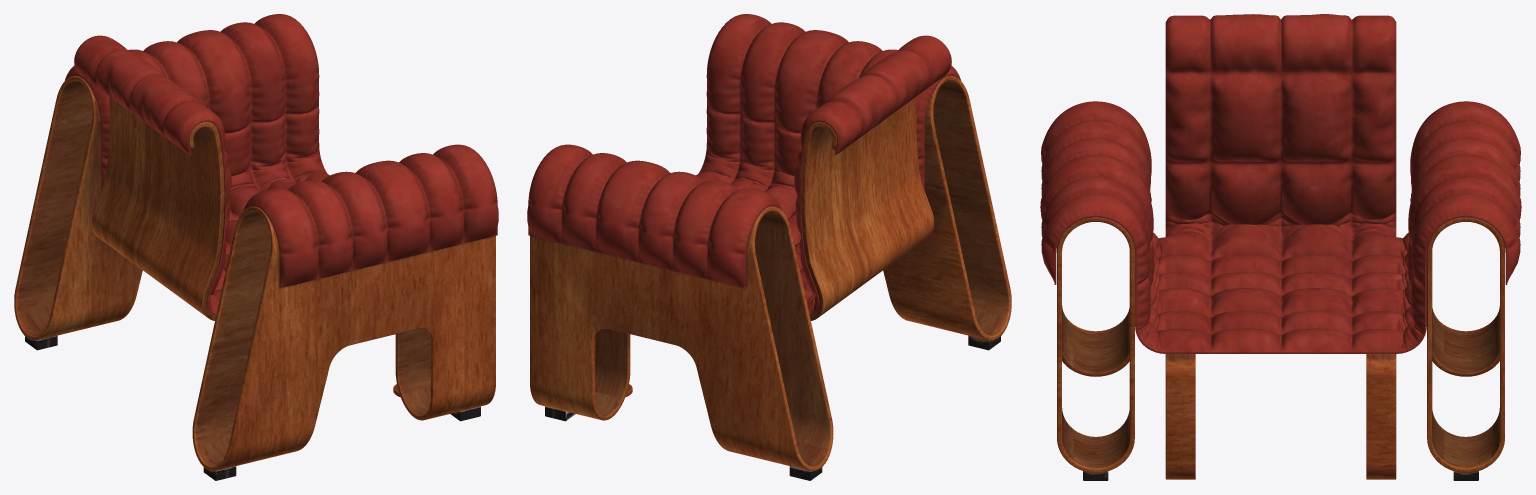
3 renders of one model, left to right at view 1: azimuth 30°, elevation 25°; view 2: azimuth 150°, elevation 25°; view 3: azimuth 270°, elevation 25°, orthographic. The views are drawn at different scales.
Visible parts, largest first — view 1: Cube, Cube.004, Cube.003, Cube.002, Cube.001; view 2: Cube, Cube.004, Cube.003, Cube.002, Cube.001; view 3: Cube.004, Cube, Cube.003, Cube.002.
Boxes of the visible parts, x1,y1,x2,y2 form: Cube: [14, 75, 495, 471]; Cube.004: [64, 14, 498, 314]; Cube.003: [91, 96, 400, 397]; Cube.002: [66, 74, 497, 315]; Cube.001: [25, 335, 480, 480]; Cube: [530, 75, 1011, 471]; Cube.004: [527, 14, 961, 314]; Cube.003: [625, 96, 934, 397]; Cube.002: [528, 73, 959, 315]; Cube.001: [545, 335, 1000, 480]; Cube.004: [1040, 14, 1521, 352]; Cube: [1057, 217, 1504, 472]; Cube.003: [1165, 354, 1396, 479]; Cube.002: [1054, 144, 1507, 353].
Bounding box in the file's own units: 0.8822 × 1.02 × 1.28.
2 materials, 2 textured.
